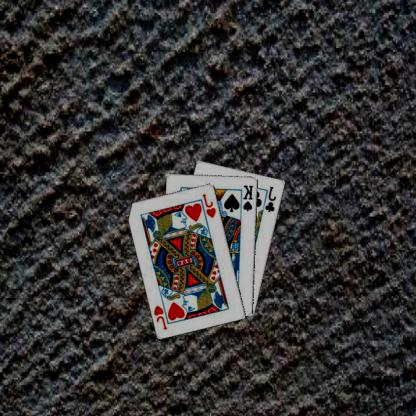JC: (264, 183, 280, 213)
JH: (202, 191, 219, 219), (153, 302, 170, 330)
KS: (243, 182, 256, 212)
